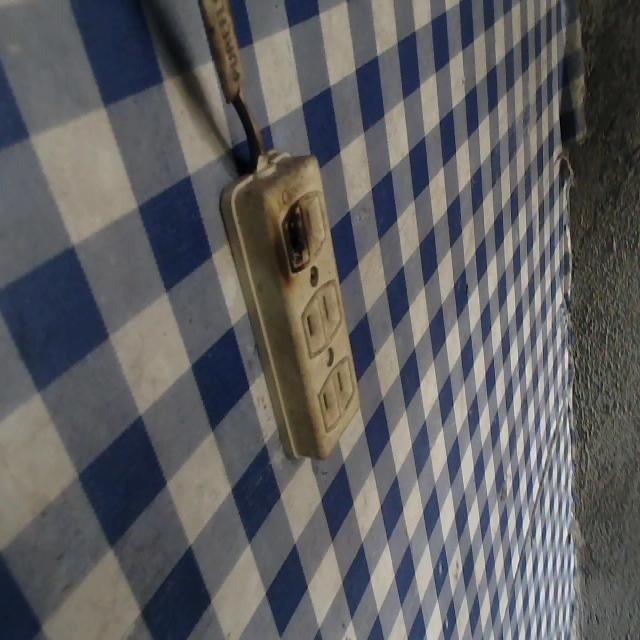-: (273, 194, 311, 282)
